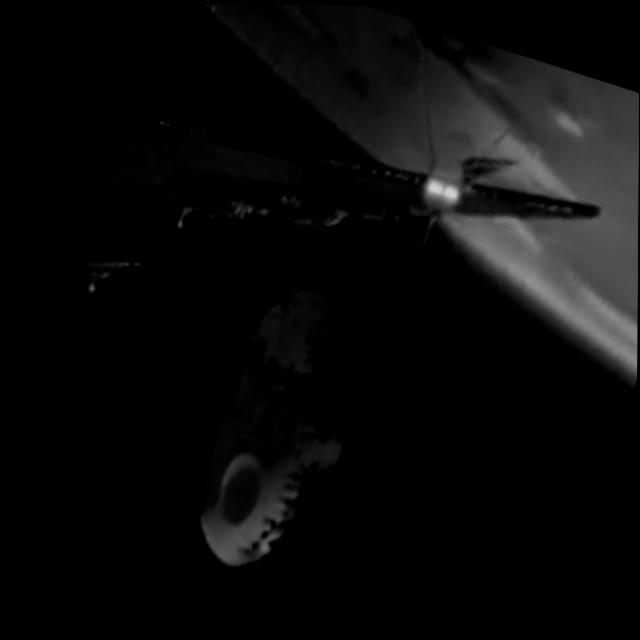death-stars: (195, 283, 345, 567)
